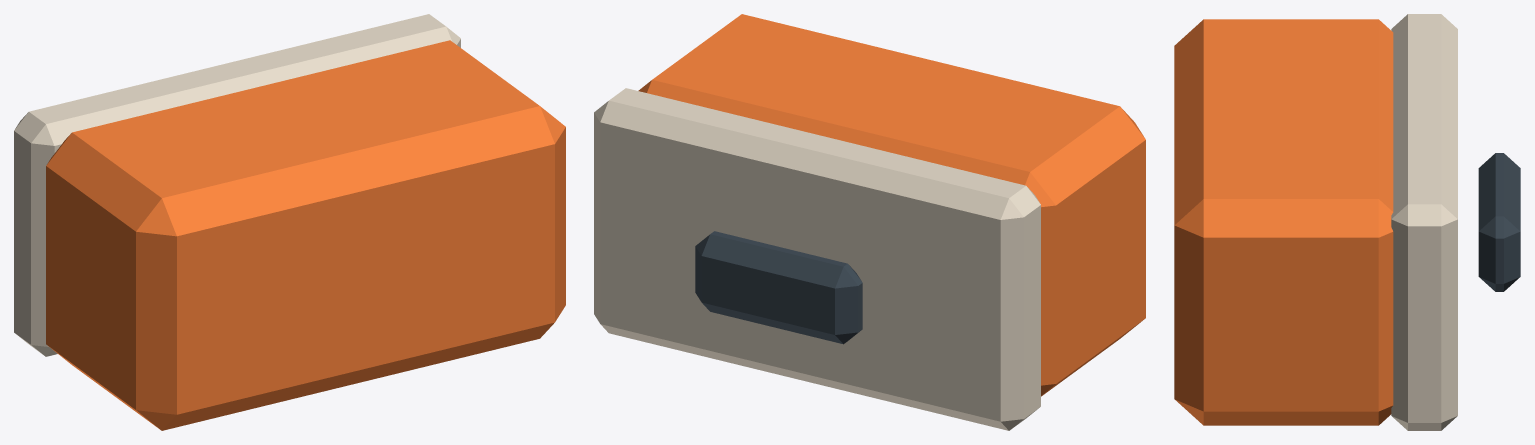
The model's file is LP_Toolbox_0p6m.fbx.
3 renders of one model, left to right at view 1: azimuth 30°, elevation 25°; view 2: azimuth 150°, elevation 25°; view 3: azimuth 270°, elevation 25°, orthographic. The views are drawn at different scales.
Parts seen in each view (by area): view 1: ToolboxBody, ToolboxLid; view 2: ToolboxLid, ToolboxBody, ToolboxHandle; view 3: ToolboxBody, ToolboxLid, ToolboxHandle.
Boxes of the visible parts, x1=… form: ToolboxBody: x1=46, y1=40, x2=565, y2=430; ToolboxLid: x1=14, y1=14, x2=460, y2=356; ToolboxLid: x1=594, y1=88, x2=1040, y2=430; ToolboxBody: x1=638, y1=14, x2=1145, y2=396; ToolboxHandle: x1=695, y1=231, x2=862, y2=344; ToolboxBody: x1=1174, y1=19, x2=1393, y2=425; ToolboxLid: x1=1391, y1=14, x2=1457, y2=430; ToolboxHandle: x1=1478, y1=153, x2=1520, y2=291.
Size of the model in its own units: 58 by 31.7 by 41.5.
